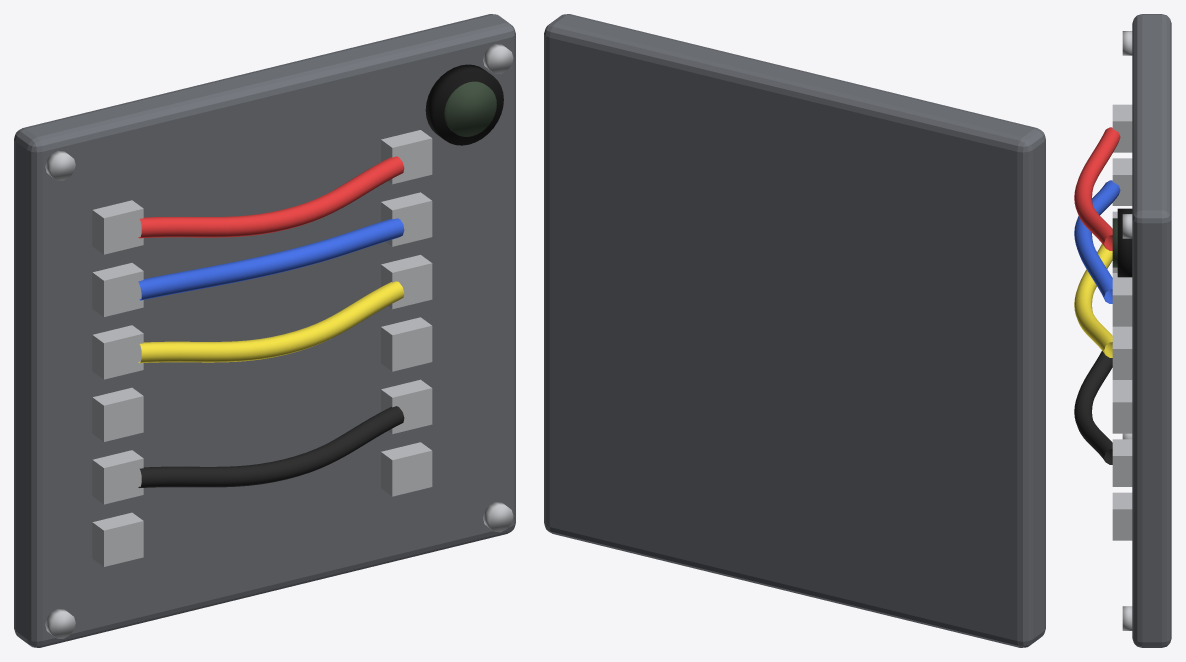
Rendered from wires.glb.
3 renders of one model, left to right at view 1: azimuth 30°, elevation 25°; view 2: azimuth 150°, elevation 25°; view 3: azimuth 270°, elevation 25°, orthographic. The views are drawn at different scales.
Parts seen in each view (by area): view 1: Module_Wires_Plate, Wires_Wire4, Wires_Wire2, Wires_Wire0, Wires_Wire1, Module_Wires_StatusRing, Wires_TermR3, Wires_TermL3, Wires_TermL5, Wires_TermR5, Wires_TermL2, Wires_TermL0 (+11 smaller); view 2: Module_Wires_Plate; view 3: Module_Wires_Plate, Wires_Wire0, Wires_Wire4, Wires_Wire1, Wires_Wire2, Wires_TermR1, Wires_TermR3, Wires_TermR5, Wires_TermR2, Wires_TermR4, Wires_TermL0, Wires_TermL1 (+5 smaller).
Boxes of the visible parts, x1,y1,x2,y2 form: Module_Wires_Plate: (14, 14, 515, 647); Wires_Wire4: (138, 406, 404, 487); Wires_Wire2: (138, 281, 404, 363); Wires_Wire0: (138, 156, 404, 238); Wires_Wire1: (138, 218, 404, 300); Module_Wires_StatusRing: (425, 64, 503, 145); Wires_TermR3: (381, 317, 432, 371); Wires_TermL3: (92, 387, 143, 441); Wires_TermL5: (92, 512, 143, 566); Wires_TermR5: (381, 442, 432, 496); Wires_TermL2: (92, 325, 143, 379); Wires_TermL0: (92, 200, 143, 254); Module_Wires_Plate: (544, 14, 1045, 647); Module_Wires_Plate: (1132, 14, 1171, 647); Wires_Wire0: (1074, 127, 1120, 250); Wires_Wire4: (1074, 351, 1112, 464); Wires_Wire1: (1074, 180, 1120, 303); Wires_Wire2: (1074, 244, 1112, 357); Wires_TermR1: (1112, 278, 1132, 326); Wires_TermR3: (1112, 385, 1132, 433); Wires_TermR5: (1112, 492, 1132, 540); Wires_TermR2: (1112, 332, 1132, 379); Wires_TermR4: (1112, 439, 1132, 486); Wires_TermL0: (1112, 104, 1132, 152); Wires_TermL1: (1112, 158, 1132, 205).
Size of the model in its own units: 0.98 by 0.98 by 0.198.
